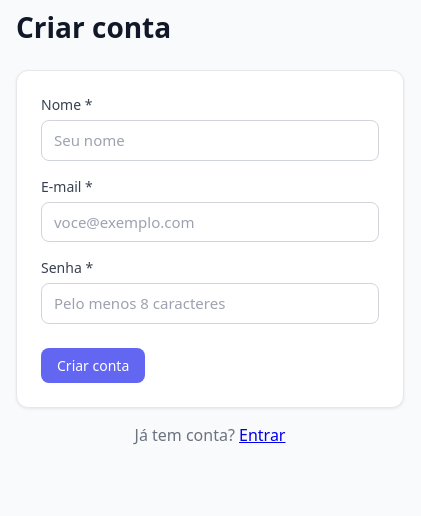
Test: RegisterPage › e-mail duplicado mostra mensagem específica, sem navegar
The width and height of the screenshot is (421, 516).
Type "Ana Souza" into the field labelled "Nome *" at (210, 140), box 41,120 -> 379,160
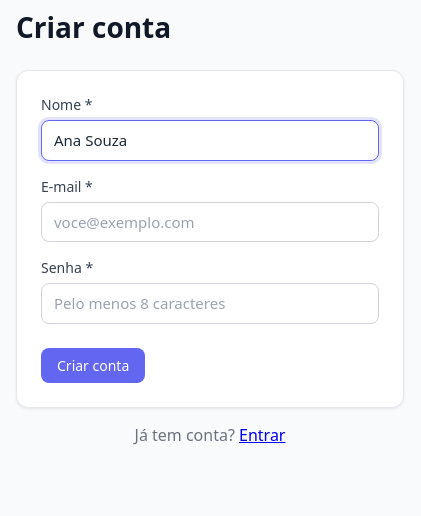
Type "ana@x.com" into the field labelled "E-mail *" at (210, 222), box 41,202 -> 379,242
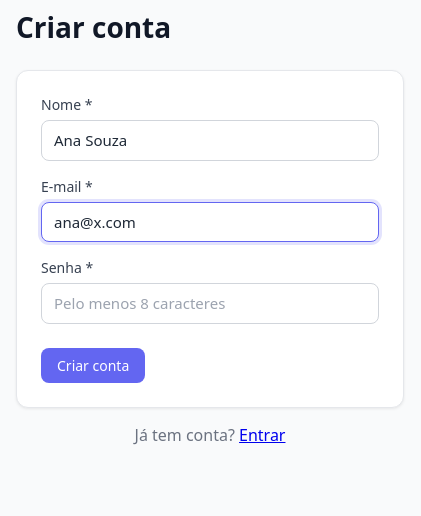
Type "senha12345" into the password field labelled "Senha *" at (210, 303), box 41,283 -> 379,324
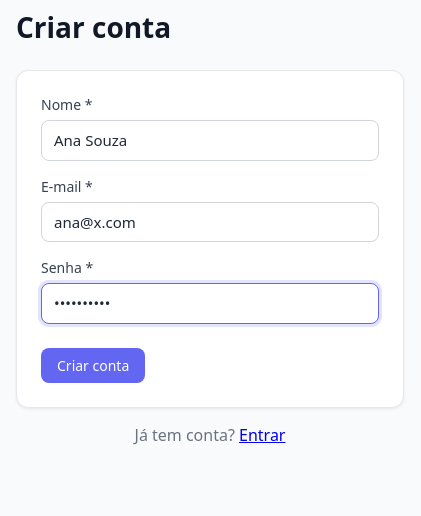
Click the button "Criar conta" at (93, 365), box 41,348 -> 145,382
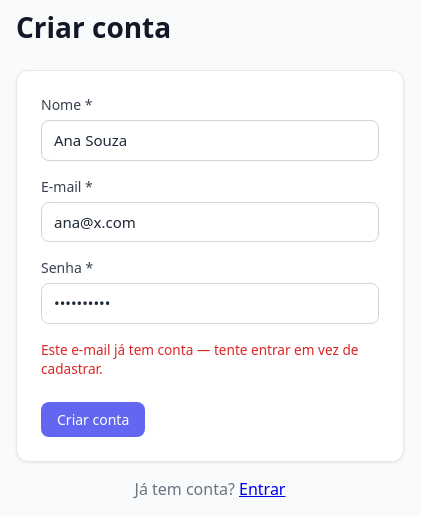
Check: the text "Este e-mail já tem conta — tente entrar em vez de cadastrar." is shown, box 41,340 -> 379,378
